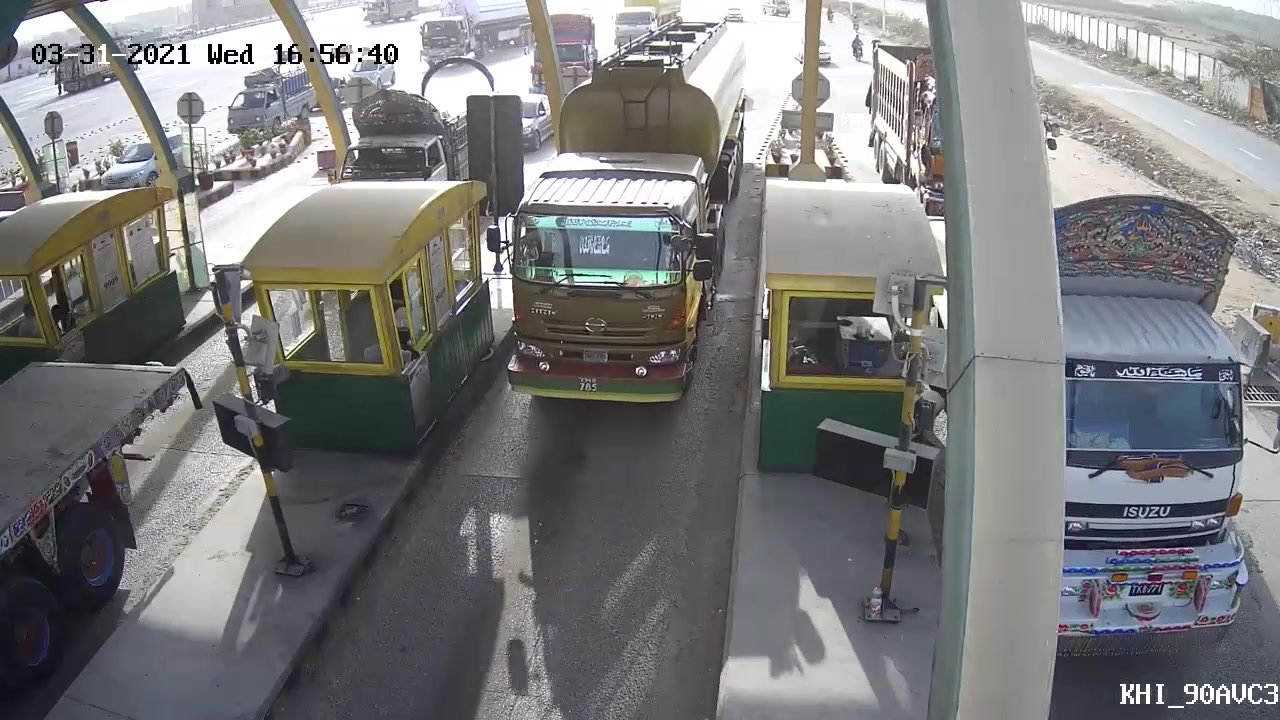F6: (483, 11, 755, 426)
